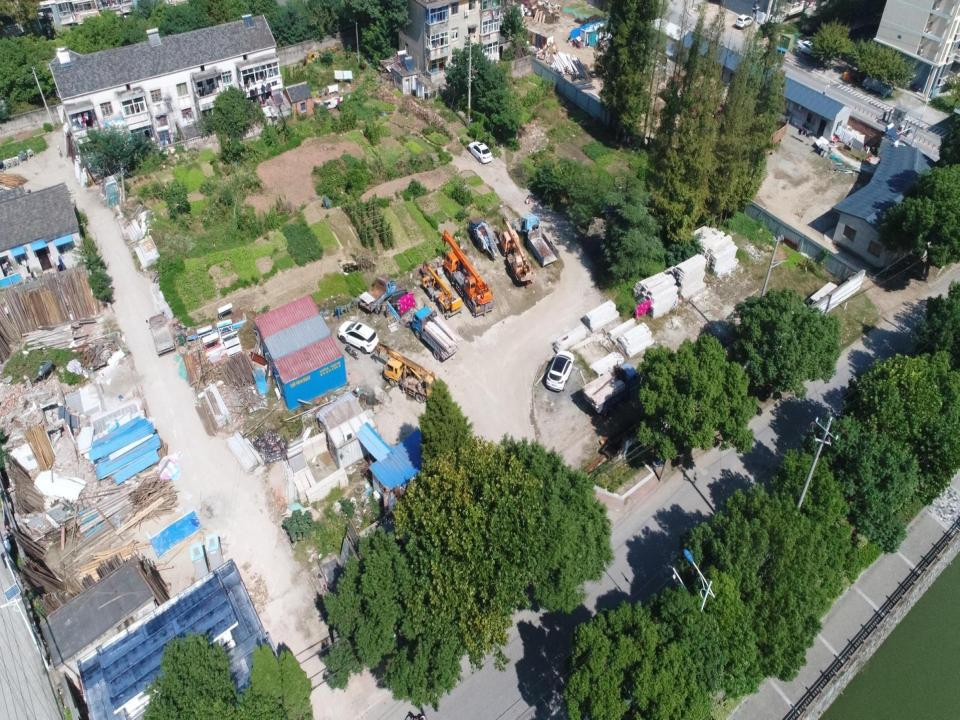car: (337, 320, 378, 353), (546, 351, 575, 391), (468, 142, 493, 164), (797, 41, 820, 58), (736, 13, 754, 29)
truck: (584, 361, 641, 415), (412, 308, 462, 360), (733, 112, 788, 154), (519, 215, 560, 265), (360, 275, 396, 313), (470, 216, 498, 256)
